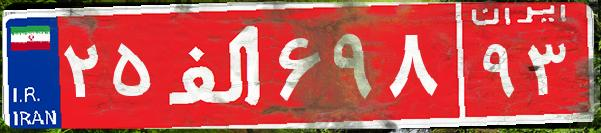2: (57, 26, 110, 107)
3: (525, 38, 570, 115)
5: (110, 28, 158, 105)
6: (273, 28, 330, 110)
8: (385, 28, 445, 110)
9: (330, 28, 385, 110), (475, 38, 525, 113)
الف: (158, 15, 273, 115)
